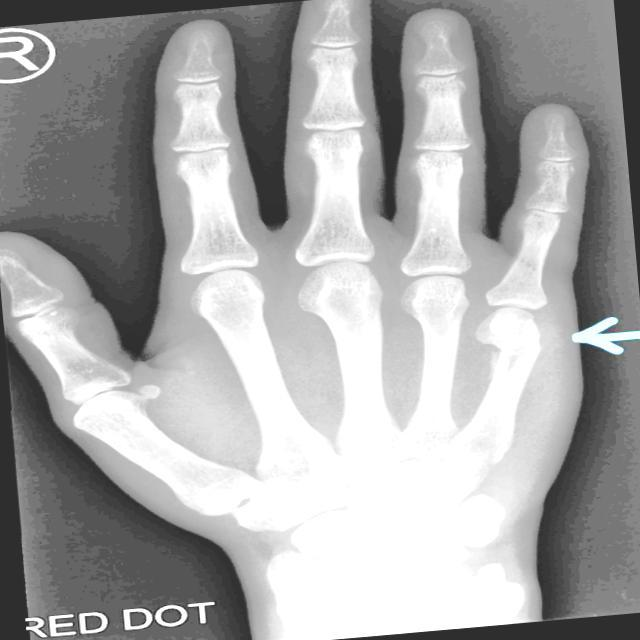Comminuted Fracture: (478, 334, 552, 376)
